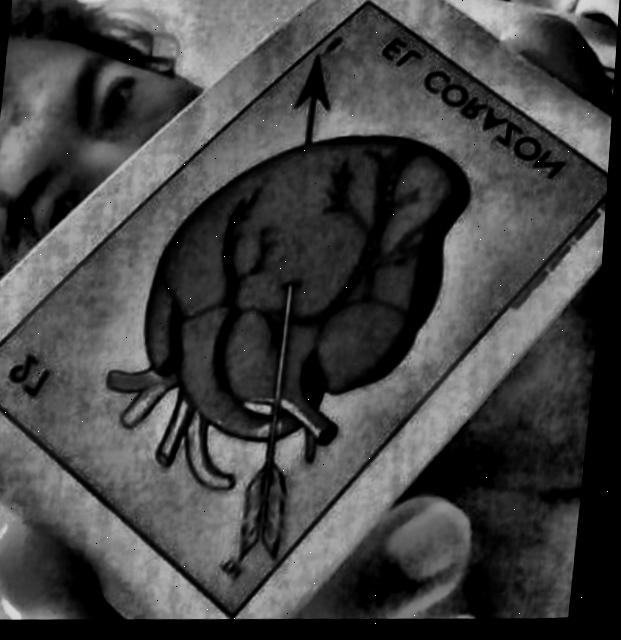El Corazon: (0, 2, 610, 620)
